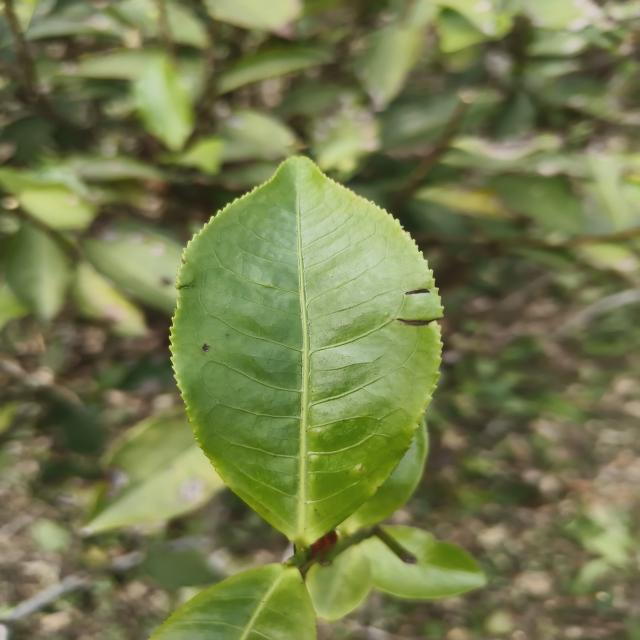Leaf: (171, 158, 441, 546), (84, 405, 226, 535), (149, 563, 316, 640), (360, 525, 486, 600), (82, 222, 182, 316), (5, 222, 71, 322), (132, 54, 194, 152), (71, 261, 147, 337), (490, 175, 584, 234), (359, 23, 421, 110), (218, 46, 330, 94), (306, 546, 372, 621), (18, 185, 95, 230), (61, 48, 162, 80), (204, 0, 301, 31)
